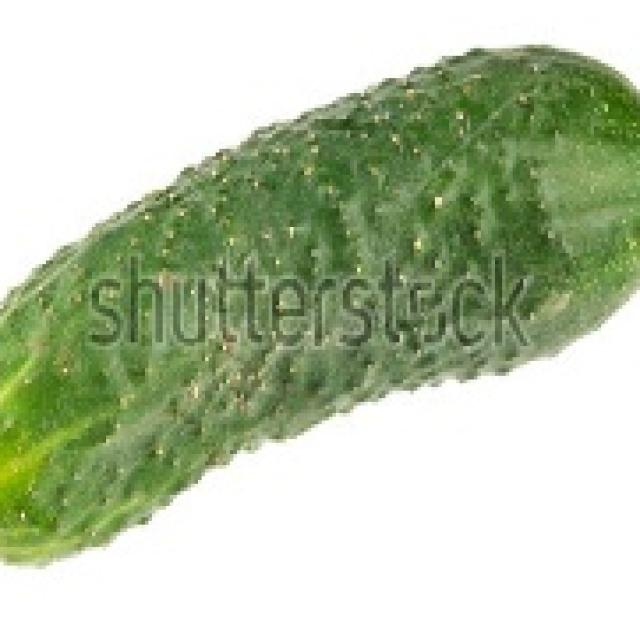cucumber: (0, 37, 640, 566)
